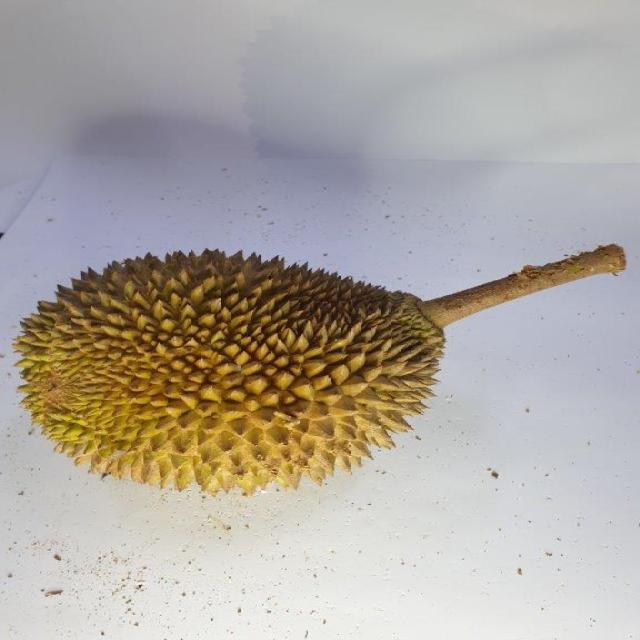mature: (16, 245, 453, 500)
